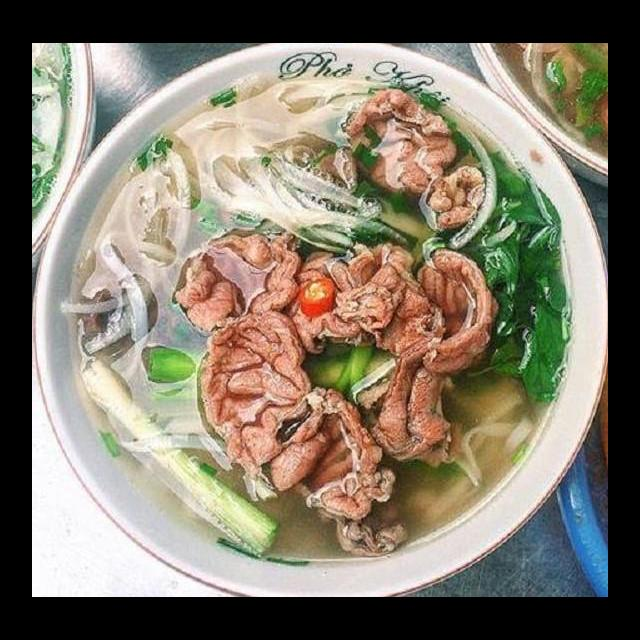banh pho: (402, 378, 540, 531)
pho bo: (42, 87, 608, 597)
thit bo: (297, 80, 490, 239), (350, 260, 466, 475), (269, 236, 454, 370), (194, 303, 316, 488), (260, 380, 400, 528), (167, 220, 309, 342), (409, 244, 504, 382)
